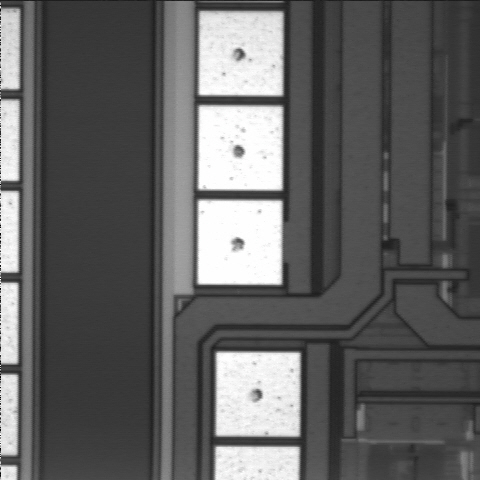pad: (198, 105, 283, 190), (199, 11, 283, 96), (198, 200, 282, 285), (216, 352, 300, 437)
